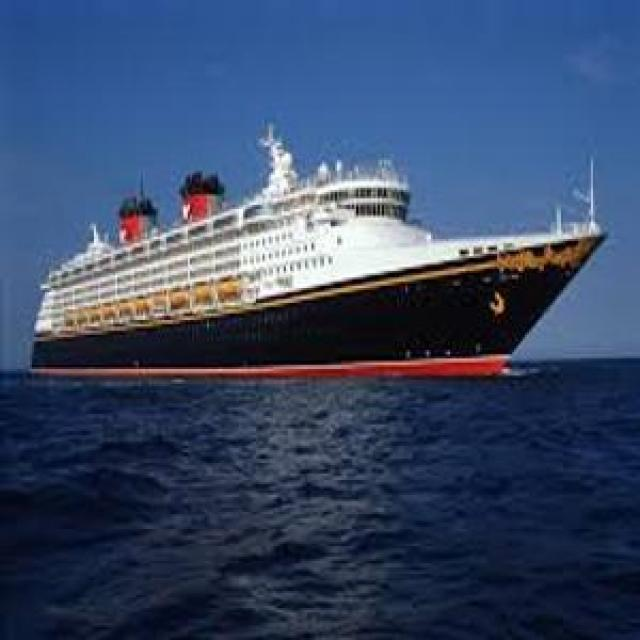passenger ship: (29, 123, 594, 374)
